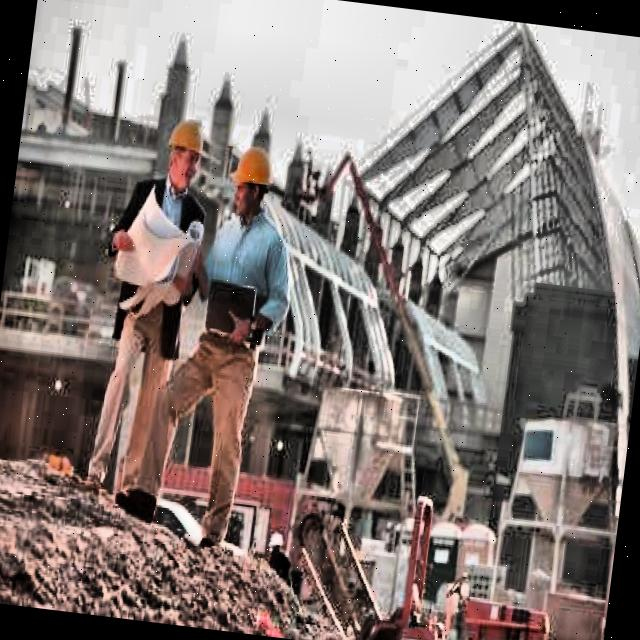helmet: (223, 133, 280, 226), (158, 108, 212, 196)
